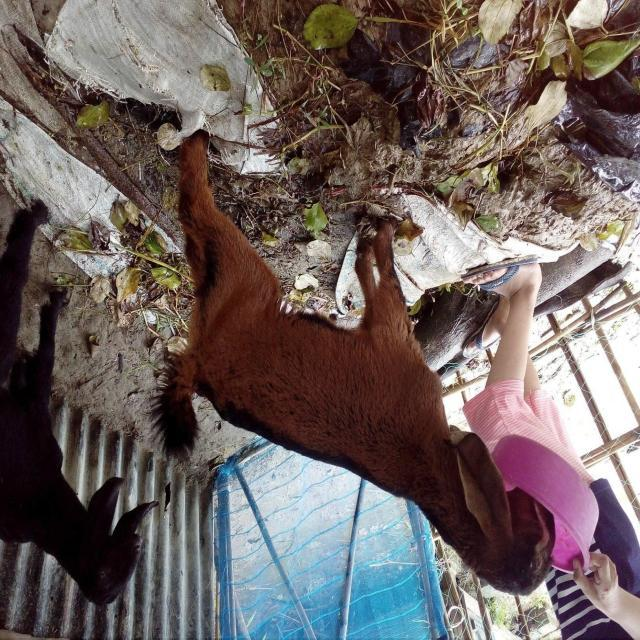Goat: (146, 130, 557, 598), (1, 200, 161, 609)
